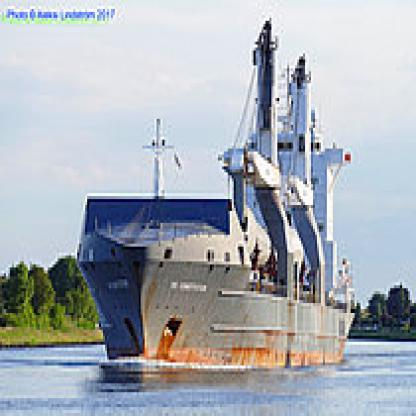Tanker: (70, 9, 362, 383)
